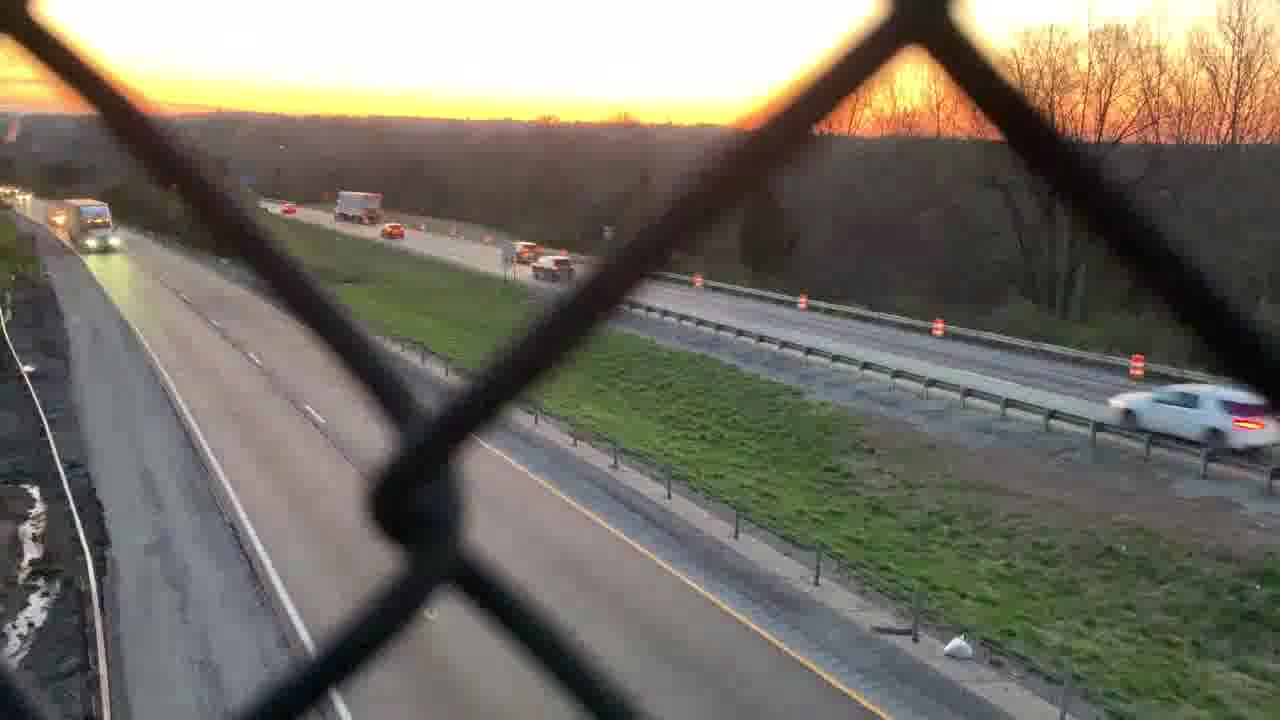heavyTruck: (67, 196, 122, 257), (331, 183, 384, 225)
largeCar: (1104, 381, 1280, 459), (532, 253, 579, 282), (502, 238, 540, 263)
vehicle: (378, 221, 406, 239), (277, 202, 299, 215), (15, 190, 33, 204)
